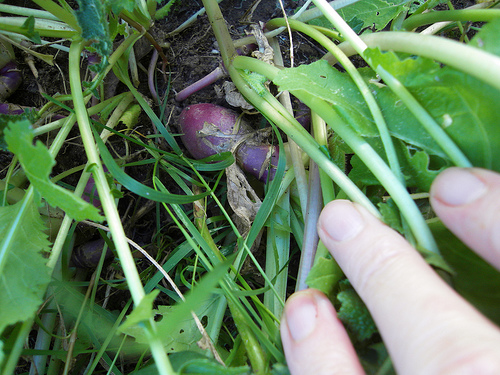turnip: (175, 99, 282, 187)
